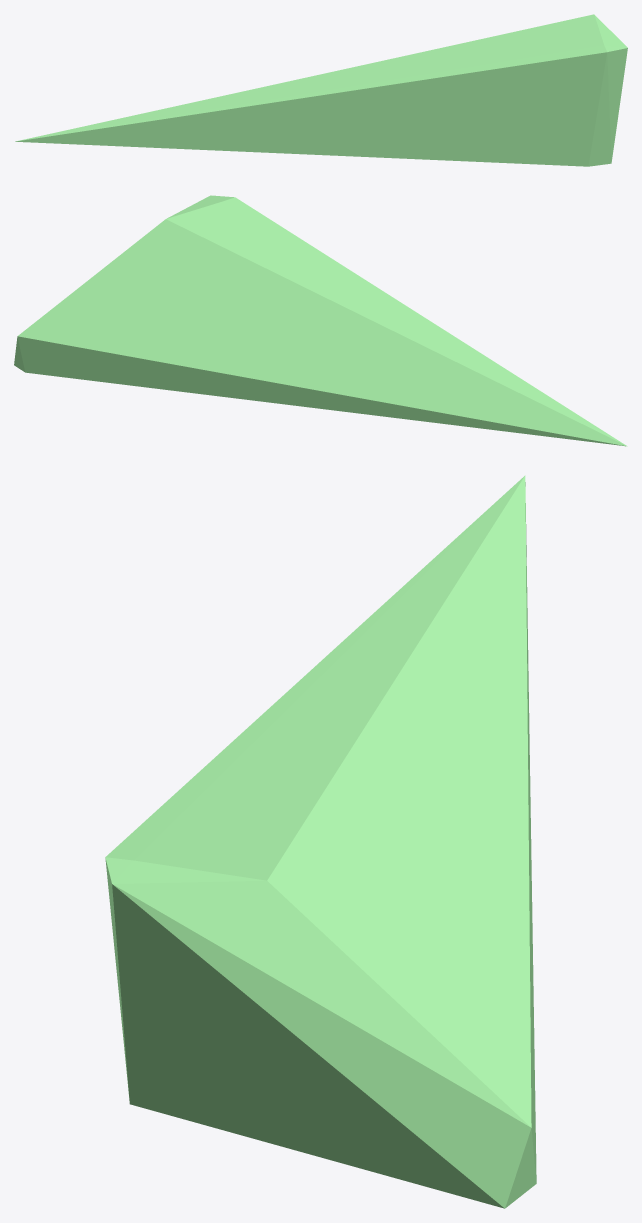
The model's file is UMIRobot_UMIRobot_link_5_convex_coll_15.dae.
3 views of the same model, one above another, from view 1: azimuth 30°, elevation 25°; view 2: azimuth 150°, elevation 25°; view 3: azimuth 270°, elevation 25° (orthographic). The views are drawn at different scales.
Parts seen in each view (by area): view 1: node; view 2: node; view 3: node.
Part boxes in pixels (x1,y1,x2,y2): node: [15, 14, 627, 166]; node: [14, 195, 627, 446]; node: [105, 475, 536, 1208].
Bounding box in the file's own units: 0.0515 × 0.00984 × 0.0159.
